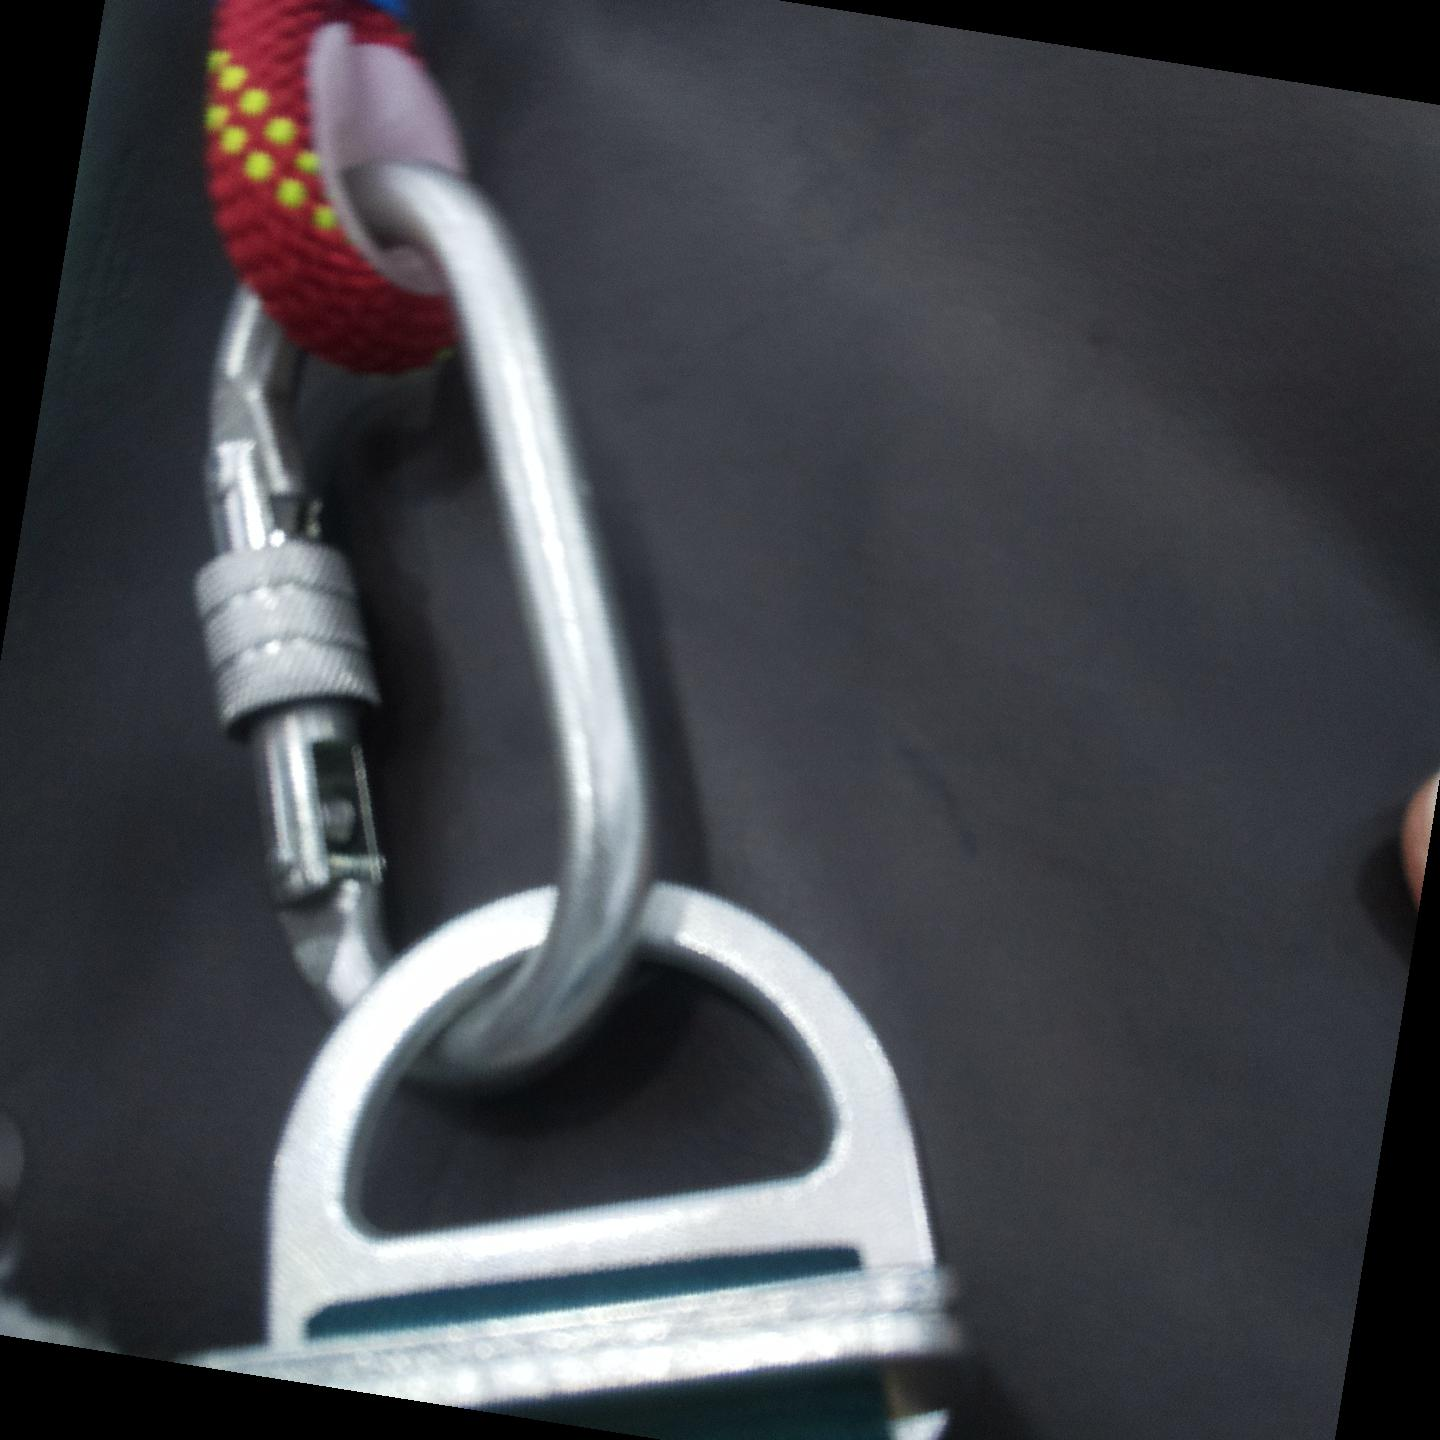SUCCESS: (138, 454, 1051, 1373)
